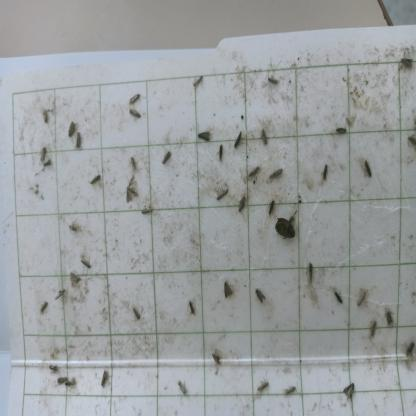prays_oleae: (119, 171, 142, 209), (336, 372, 359, 406), (303, 250, 320, 289), (384, 297, 399, 339), (250, 283, 272, 310), (254, 371, 272, 403), (354, 284, 371, 314), (49, 282, 71, 305), (220, 275, 237, 304), (174, 373, 192, 400), (78, 252, 102, 272), (282, 376, 300, 402), (66, 267, 84, 292), (266, 156, 283, 182), (212, 180, 232, 202), (137, 198, 156, 221), (209, 347, 226, 372), (232, 192, 247, 220), (402, 334, 416, 364), (64, 218, 84, 238), (183, 297, 199, 322), (332, 282, 345, 312), (366, 316, 380, 342), (67, 115, 82, 139), (120, 150, 140, 168), (36, 141, 48, 169), (130, 302, 145, 324), (196, 132, 214, 150), (358, 164, 376, 182), (86, 172, 106, 188), (244, 163, 260, 183), (232, 128, 244, 154), (399, 53, 414, 73), (264, 198, 277, 221), (97, 367, 109, 391), (71, 134, 86, 153), (321, 154, 329, 189), (40, 293, 51, 318), (215, 141, 226, 166), (260, 123, 271, 148), (123, 89, 142, 103), (334, 124, 350, 140), (163, 148, 174, 171), (44, 154, 55, 176), (64, 375, 80, 390), (40, 111, 56, 125), (268, 72, 282, 88), (60, 372, 70, 393), (127, 110, 144, 122), (190, 78, 206, 90), (407, 132, 416, 150), (47, 364, 61, 374)
